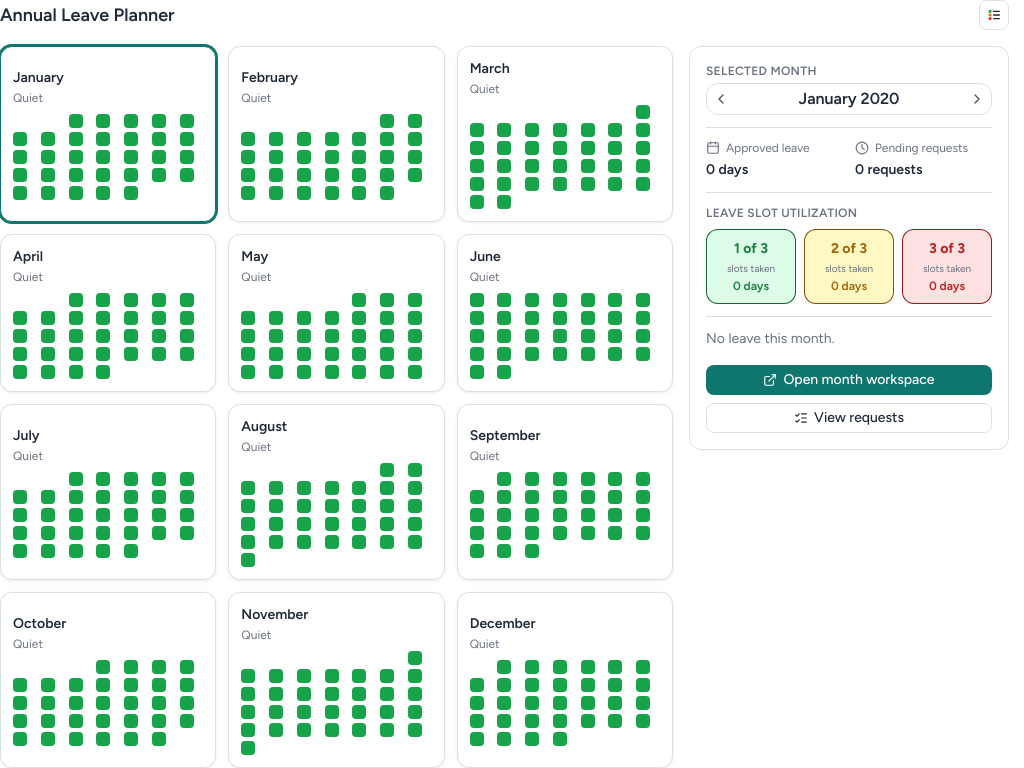
Test: AnnualPlannerOverview — non-admin mobile category finder › the Selected month panel jump sheet can still swap to a year grid, since there is no separate year selector
Click the button "January 2020": (849, 99) [735,87,963,111]
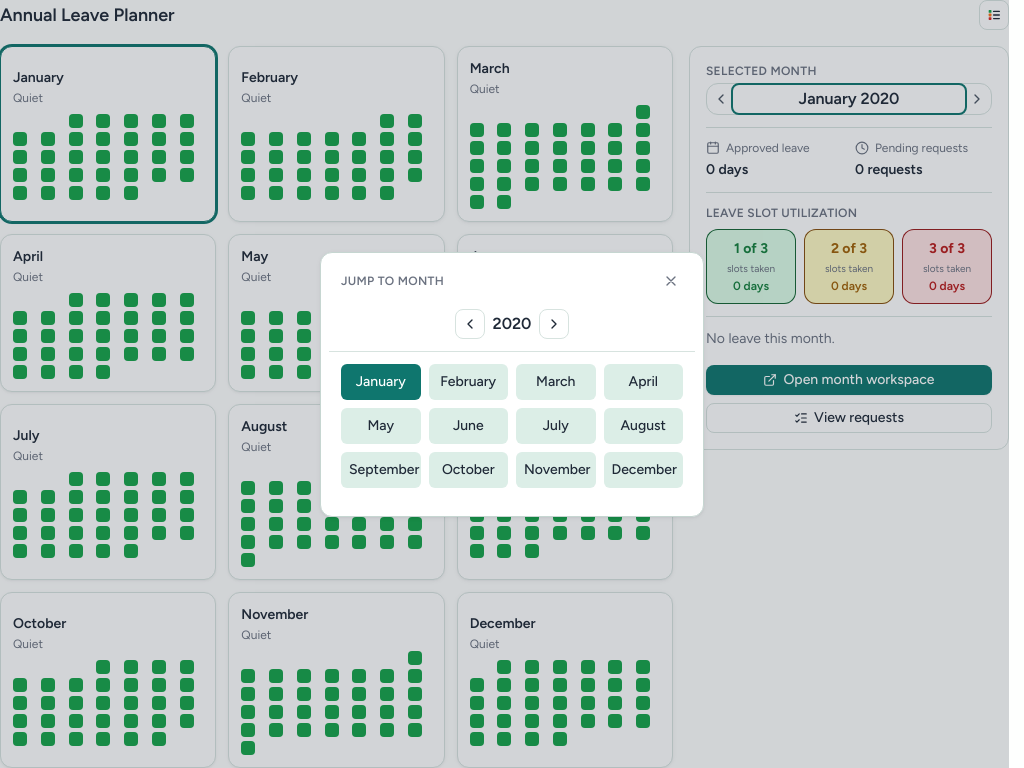
Click the button "2020": (512, 324) [492,312,531,336]
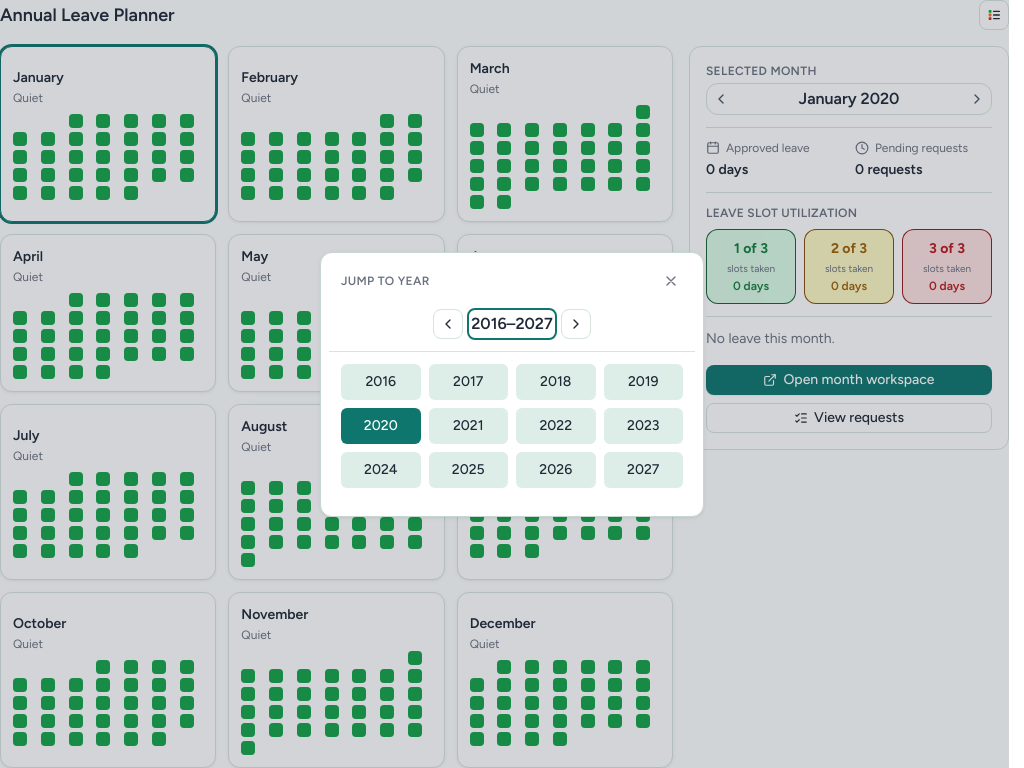
Check: the button "2016" is shown, box [341,364,420,400]
